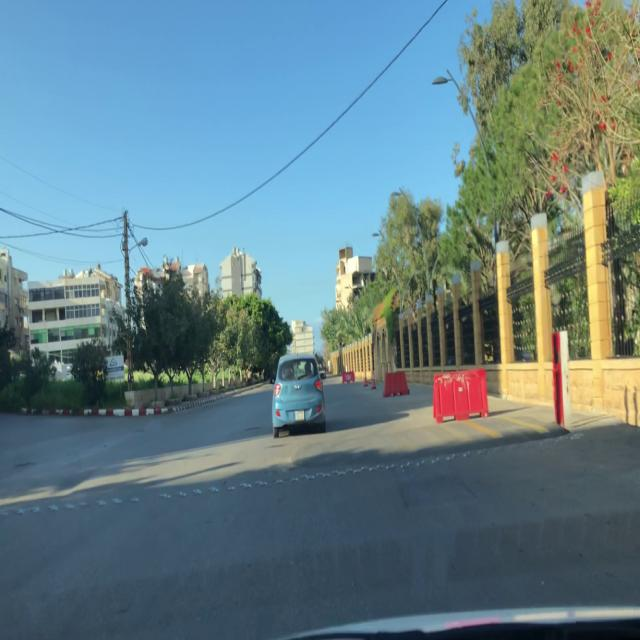Pothole: (14, 461, 38, 470), (242, 426, 262, 432), (134, 428, 146, 434)
